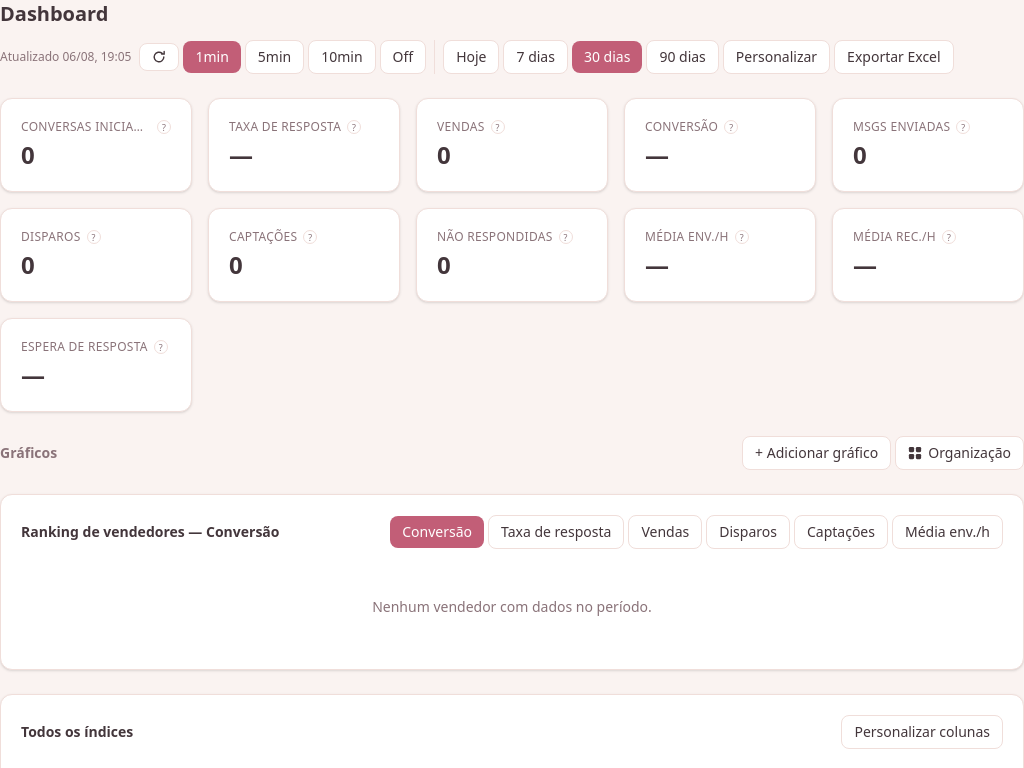
Test: DashboardPage › permite ocultar métricas globais dos cards
Expected: the heading "Ranking de vendedores — Conversão" is shown, [21,522,280,542]
Expected: the element with test id "kpi-vendas" is shown, [416,98,608,192]
Click the button "Personalizar": (776, 57) [723,40,830,74]
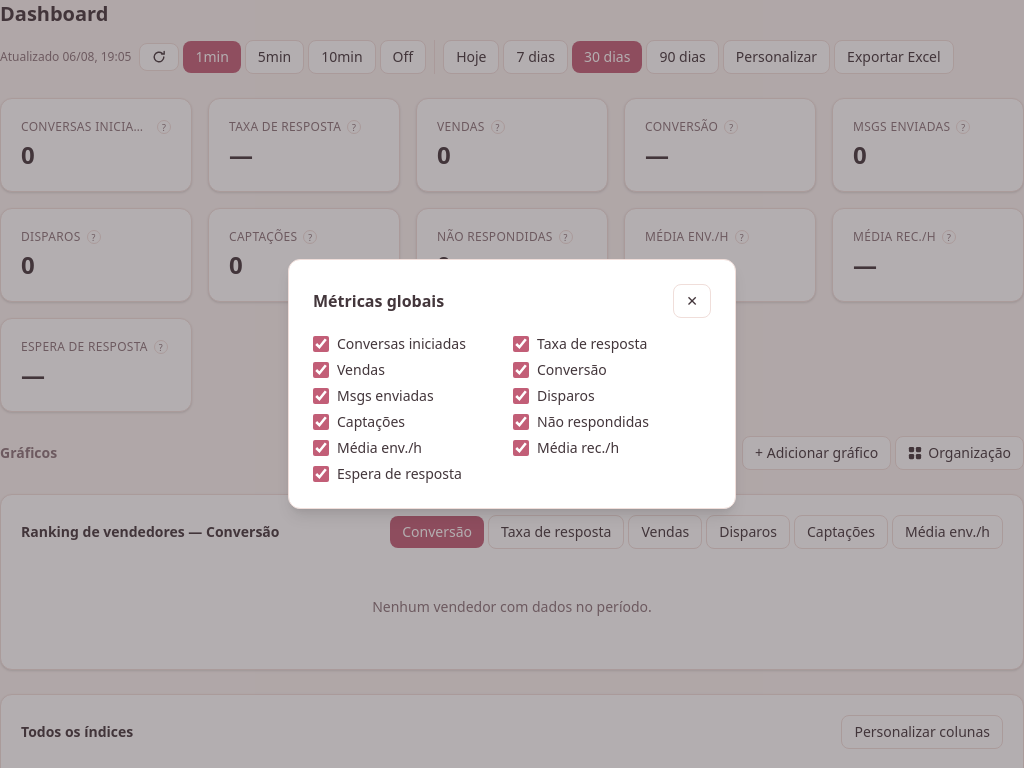
Click the checkbox labelled "Vendas": (321, 370) [313,362,329,378]
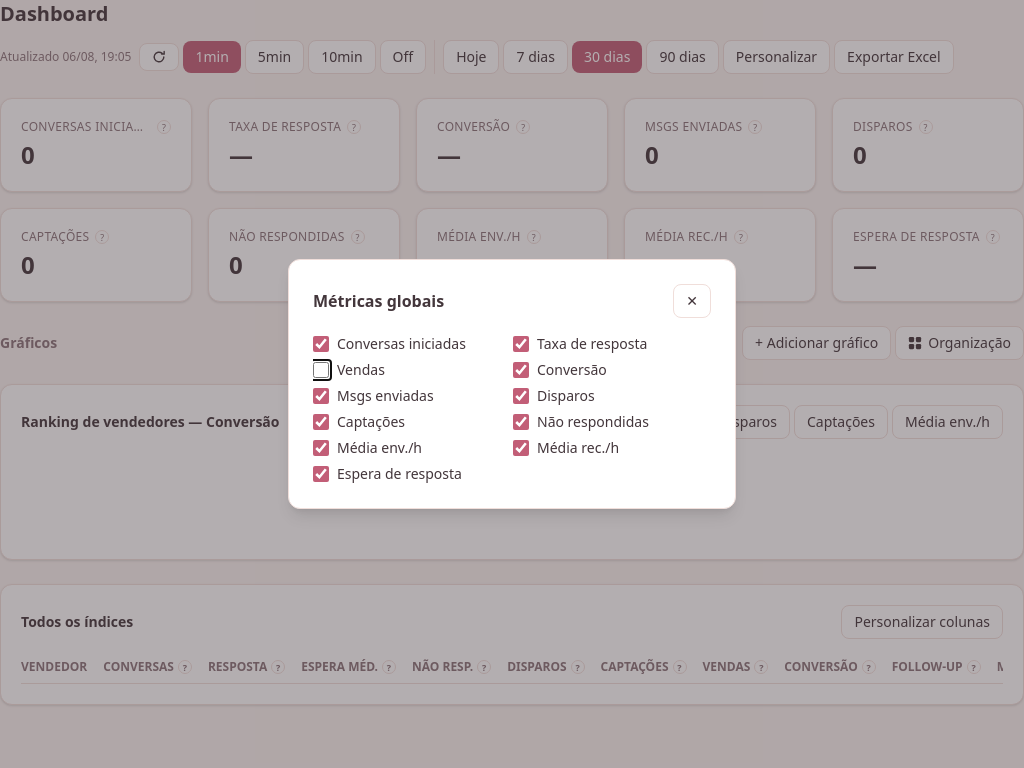
Result: the element with test id "kpi-vendas" is gone
